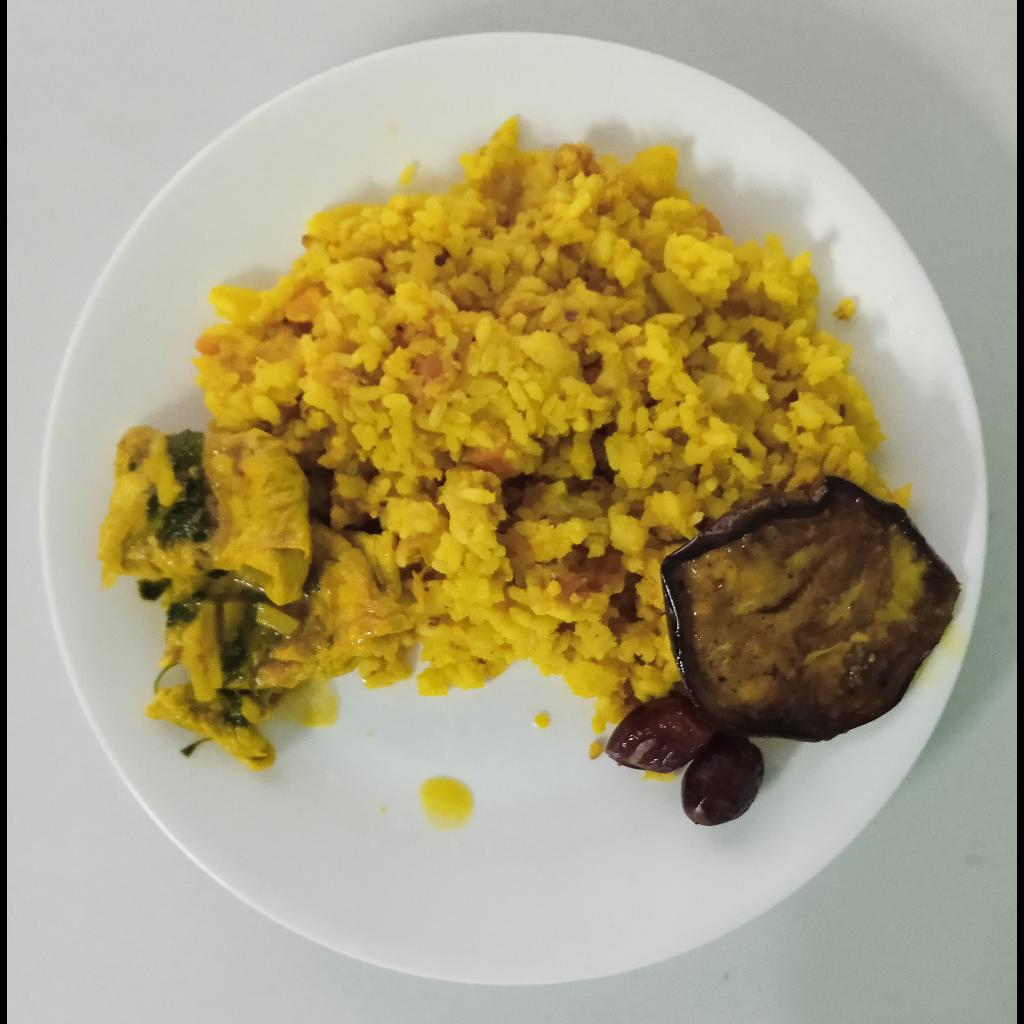begun-vaji: (660, 474, 961, 742)
cauliflower: (95, 427, 416, 769)
dates: (606, 695, 764, 825)
khichuri: (195, 115, 909, 727)
